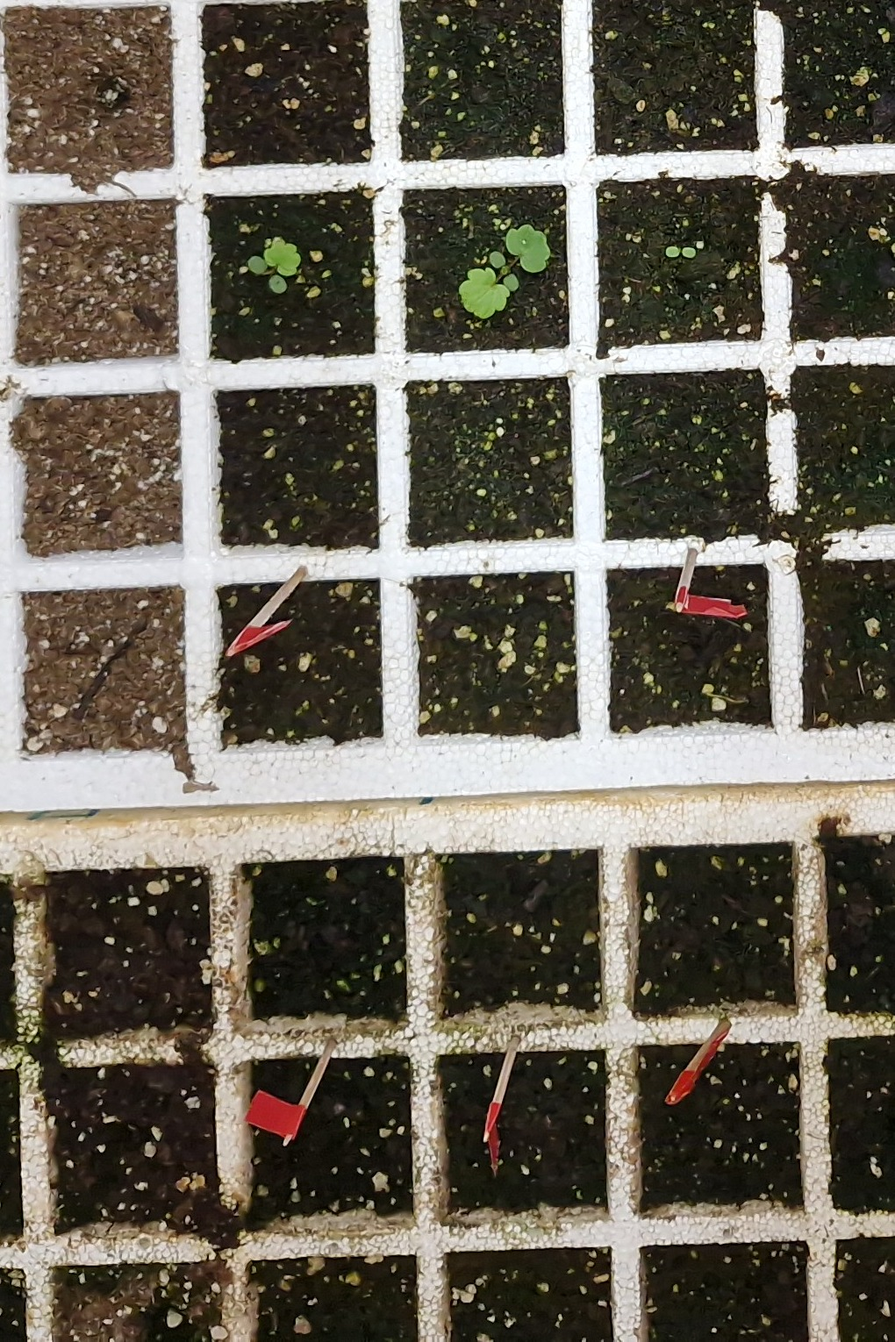Folha: (459, 268, 510, 319), (507, 226, 550, 272), (264, 239, 300, 276), (249, 256, 267, 273), (269, 276, 287, 293), (503, 273, 519, 291), (490, 252, 505, 268), (666, 247, 679, 257)
Germinacao: (459, 225, 550, 319), (249, 241, 300, 293), (666, 247, 697, 258)
